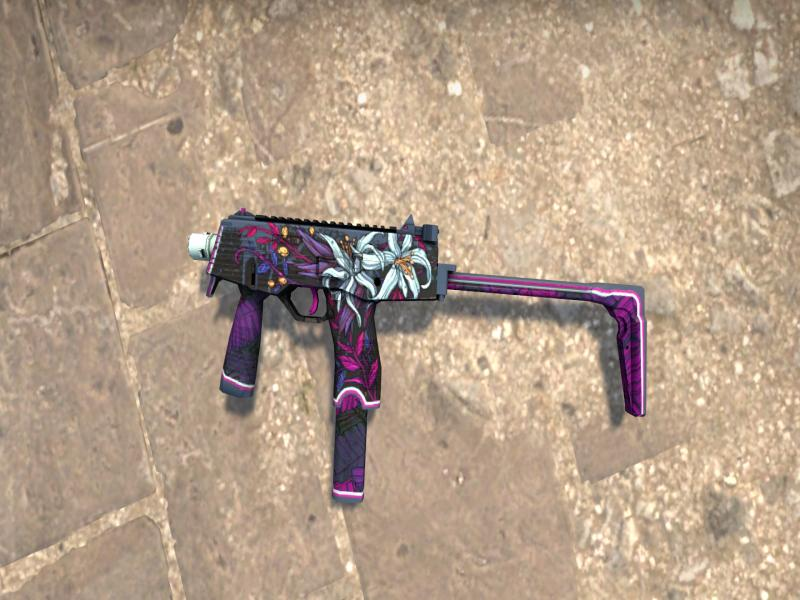MP9: (188, 208, 647, 503)
